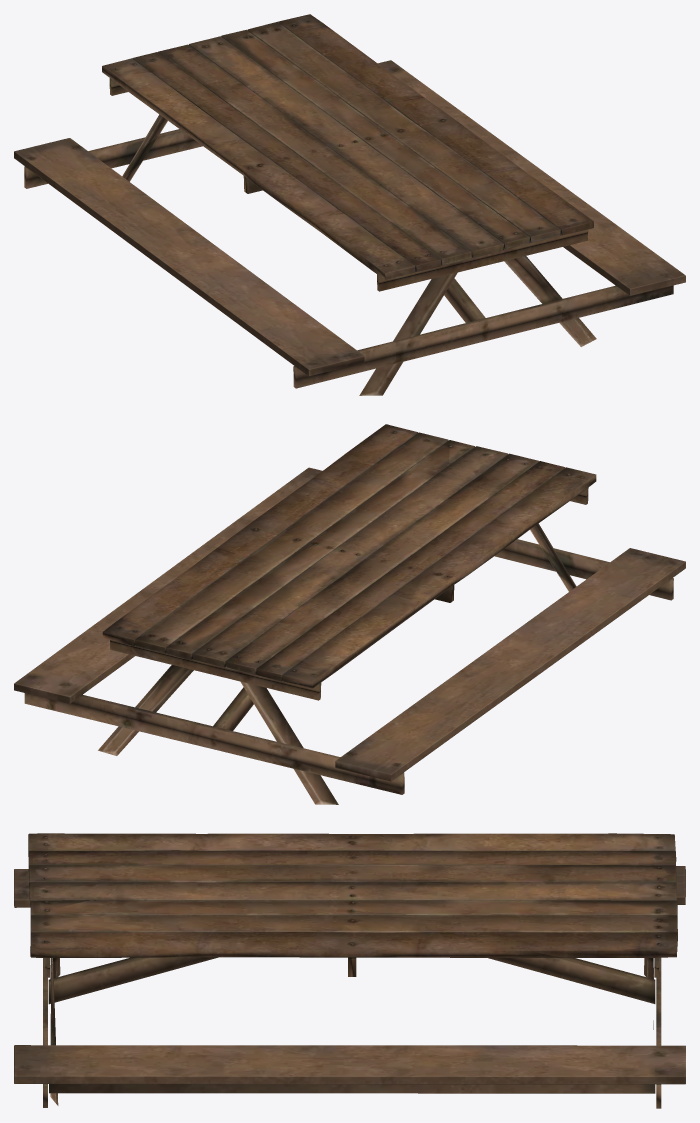
File: picnic.glb
3 renders of one model, top to bottom at view 1: azimuth 30°, elevation 25°; view 2: azimuth 150°, elevation 25°; view 3: azimuth 270°, elevation 25°, orthographic. The views are drawn at different scales.
Parts seen in each view (by area): view 1: wooden_picnic_table; view 2: wooden_picnic_table; view 3: wooden_picnic_table.
Boxes of the visible parts, box(x1,y1,x2,y2) form: wooden_picnic_table: box(14, 14, 685, 395); wooden_picnic_table: box(14, 424, 685, 804); wooden_picnic_table: box(14, 833, 685, 1108).
Size of the model in its own units: 2.25 by 0.7493 by 3.04.
Materials: 2 (2 with a texture image).
